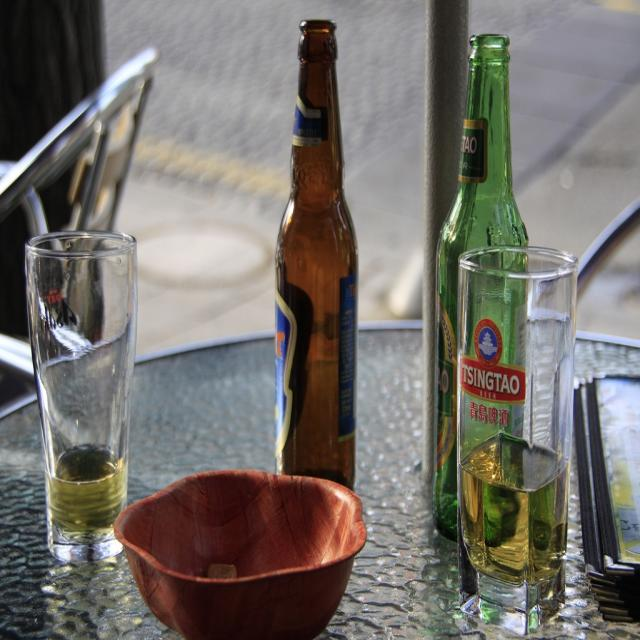tsingtao: (459, 316, 530, 407)
